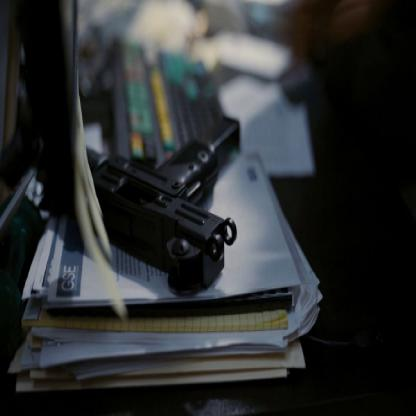Gun: (84, 113, 244, 297)
